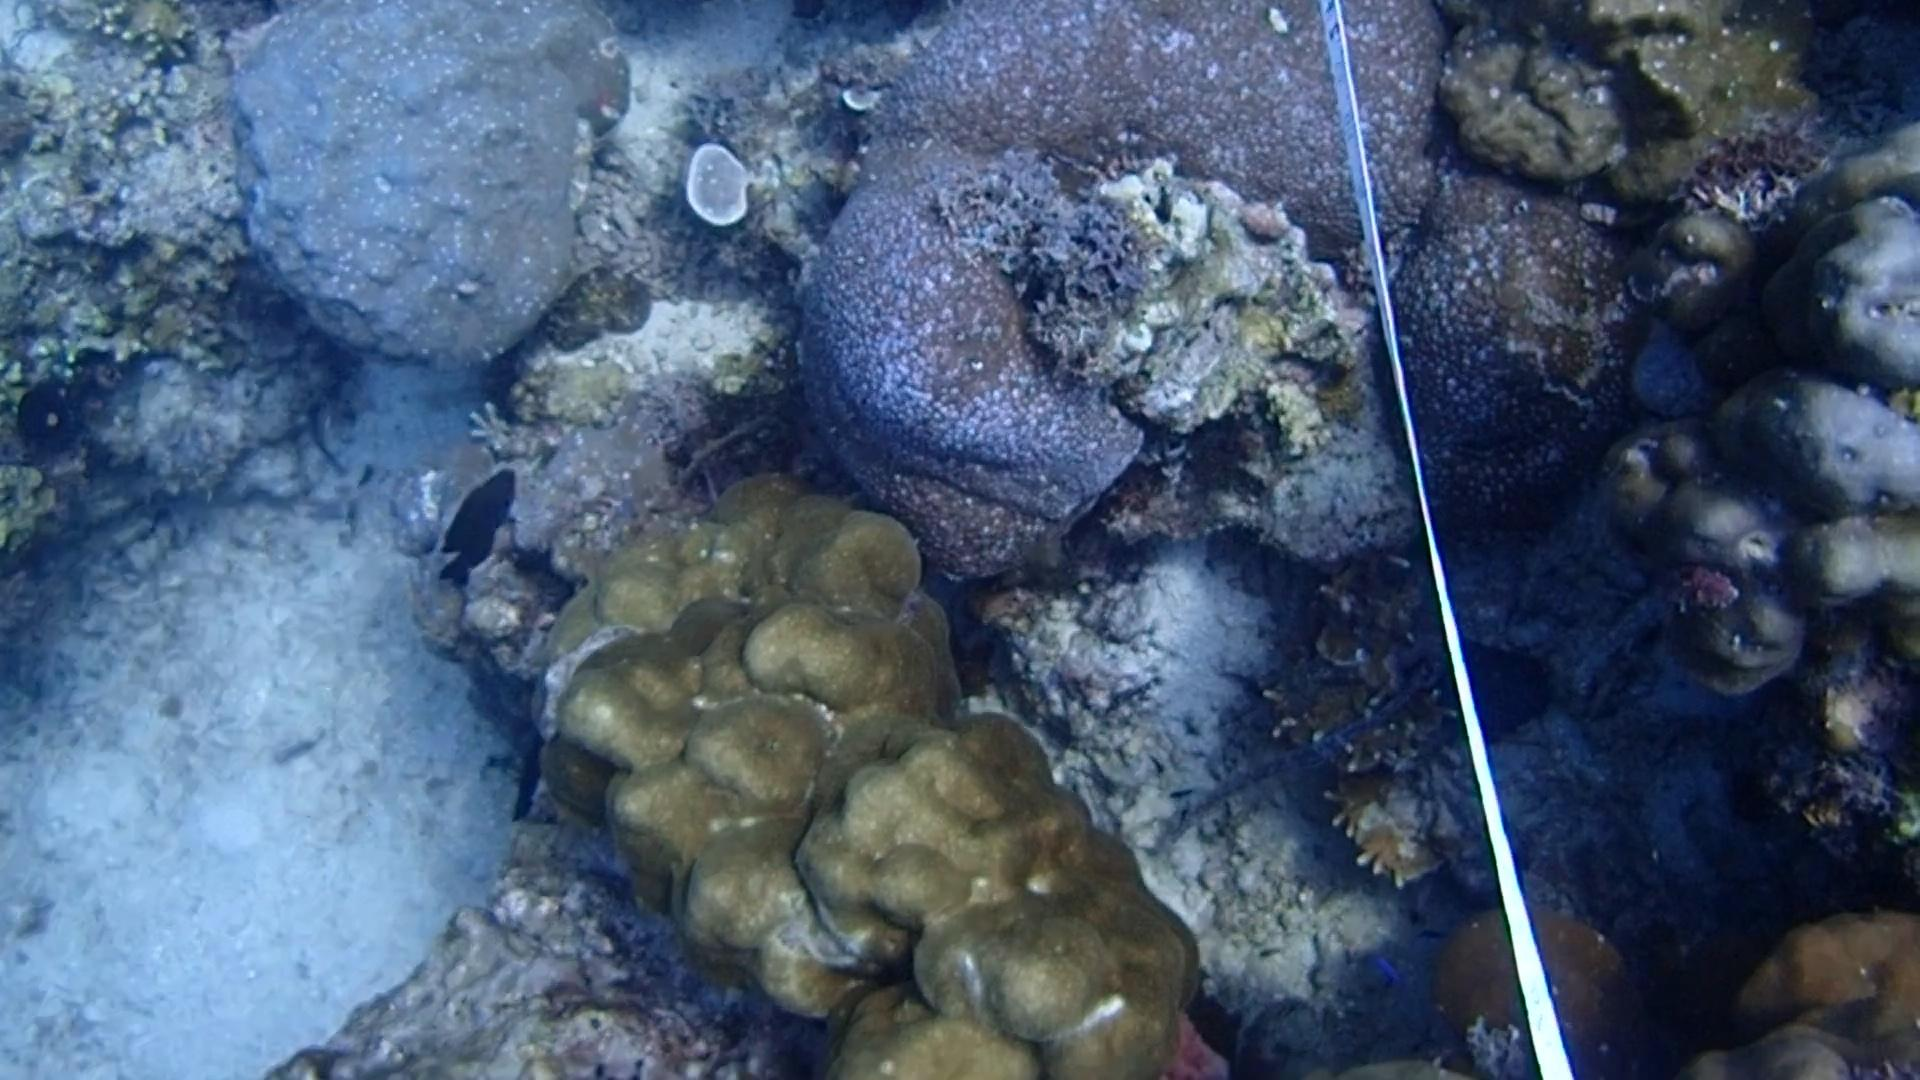Dark Fish: (425, 465, 518, 587)
